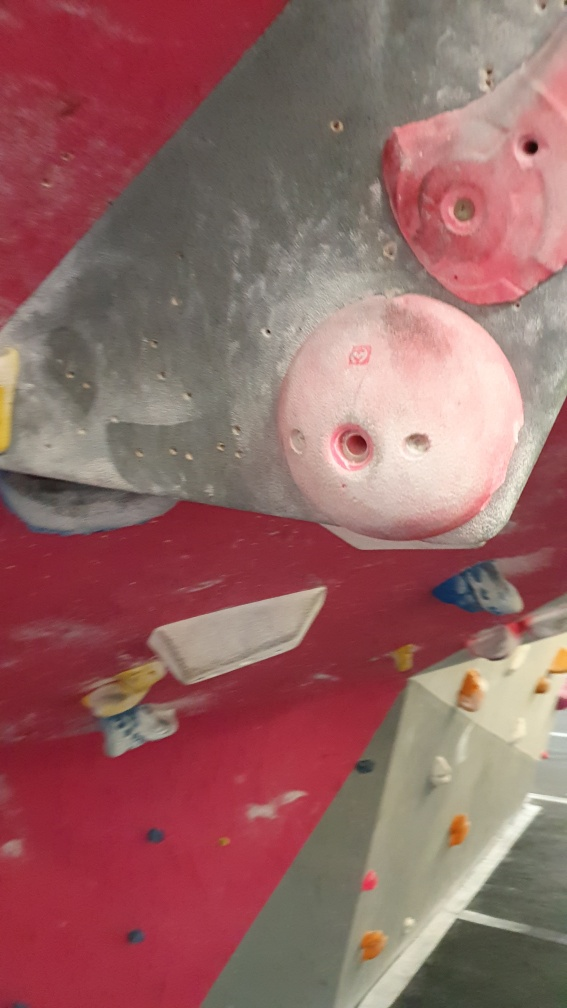Jug: (426, 555, 532, 618)
Pinch: (145, 588, 335, 682)
Sloper: (273, 285, 526, 550)
